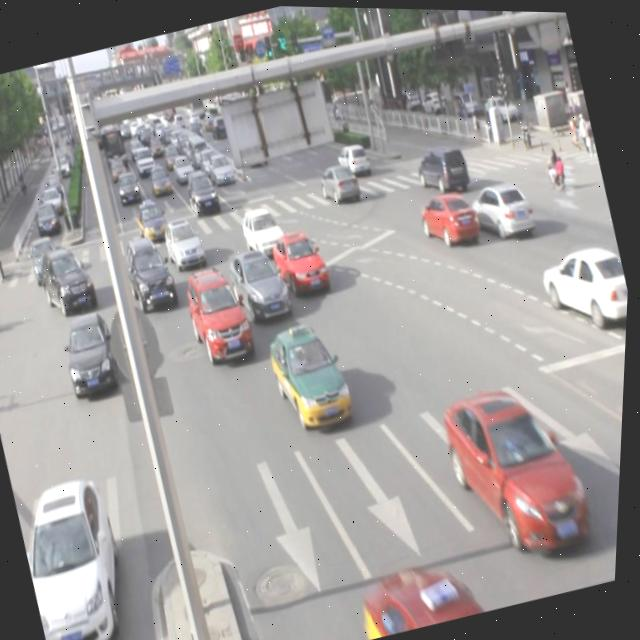car: (434, 370, 606, 570), (12, 469, 147, 640), (264, 312, 364, 437), (536, 234, 632, 332), (180, 258, 262, 367), (57, 305, 129, 402), (226, 239, 300, 326), (269, 223, 337, 302), (466, 171, 540, 242), (122, 230, 184, 313), (414, 182, 486, 252), (410, 137, 472, 196), (238, 199, 291, 259), (160, 211, 212, 271)
